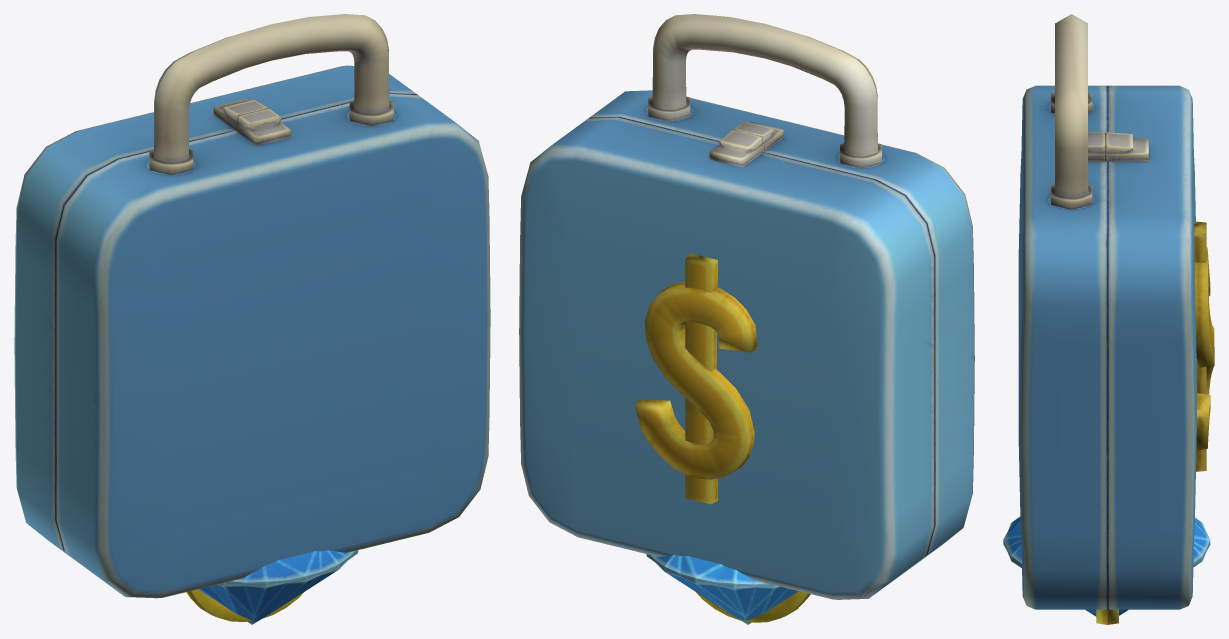
File: Collectibles.fbx
The picture shows the model from 3 angles, left to right: view 1: azimuth 30°, elevation 25°; view 2: azimuth 150°, elevation 25°; view 3: azimuth 270°, elevation 25°; orthographic projection. The views are drawn at different scales.
Parts seen in each view (by area): view 1: LootCrate_LP, Diamond_LP, Coin_Base_LP; view 2: LootCrate_LP, Diamond_LP, Coin_Base_LP; view 3: LootCrate_LP, Diamond_LP, Coin_Base_LP.
Part boxes in pixels (x1,y1,x2,y2): LootCrate_LP: (14, 14, 490, 598); Diamond_LP: (198, 550, 358, 624); Coin_Base_LP: (186, 589, 303, 621); LootCrate_LP: (519, 14, 974, 599); Diamond_LP: (646, 554, 798, 624); Coin_Base_LP: (695, 591, 810, 622); LootCrate_LP: (1018, 14, 1214, 609); Diamond_LP: (1003, 516, 1210, 616); Coin_Base_LP: (1096, 609, 1118, 624).
Size of the model in its own units: 21.33 by 31.86 by 10.51.
1 material, 1 textured.
